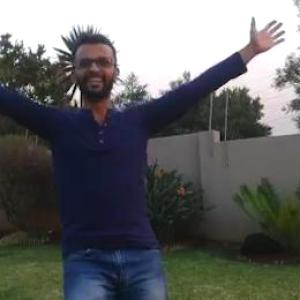takeoff: (1, 31, 261, 299)
